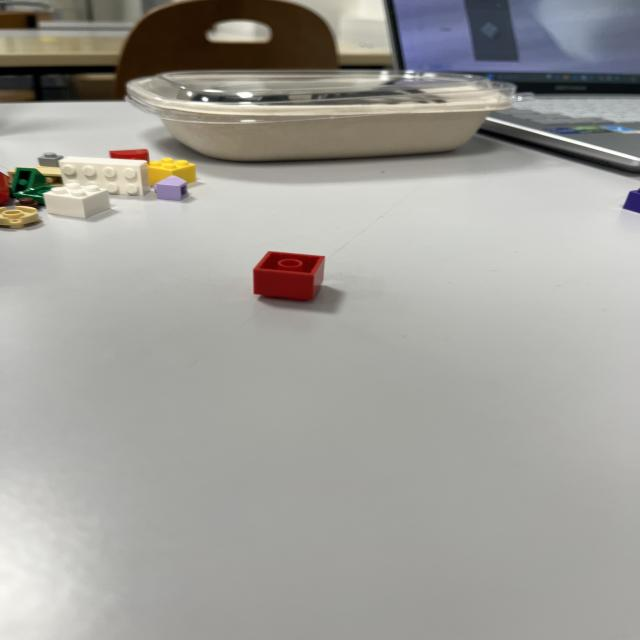C2x2x1: (252, 250, 328, 304)
